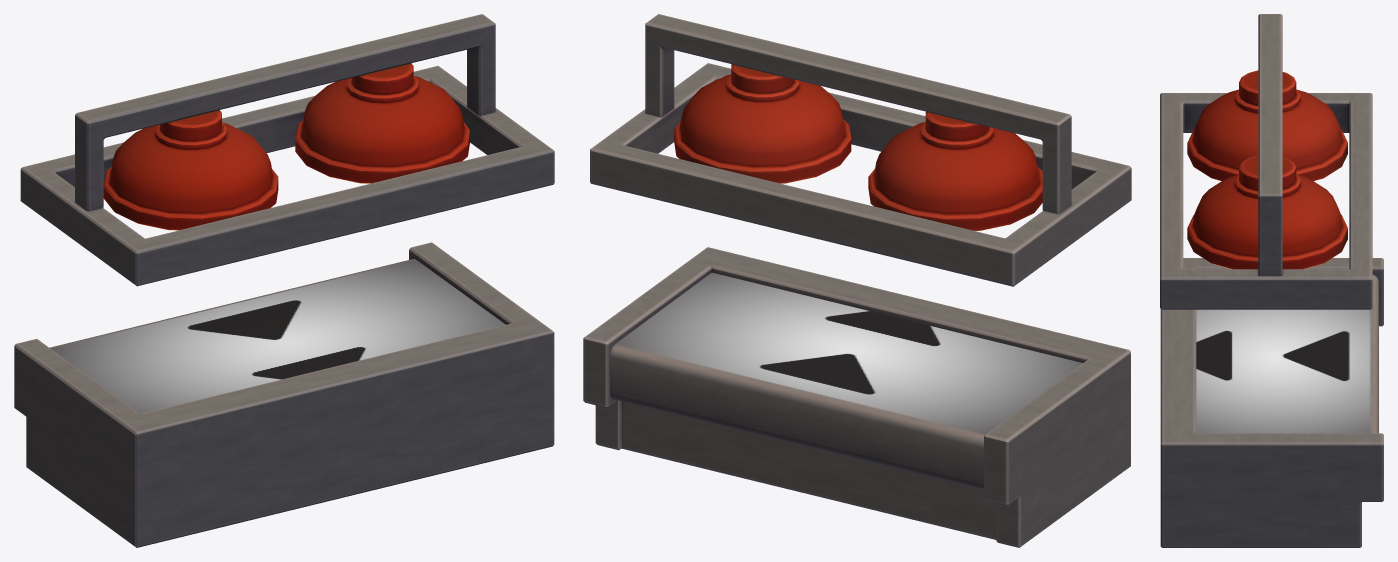
File: DeliveryCounter.fbx
The picture shows the model from 3 angles, left to right: view 1: azimuth 30°, elevation 25°; view 2: azimuth 150°, elevation 25°; view 3: azimuth 270°, elevation 25°; orthographic projection. The views are drawn at different scales.
Parts seen in each view (by area): view 1: Delivery_Counter.001; view 2: Delivery_Counter.001; view 3: Delivery_Counter.001.
Part boxes in pixels (x1,y1,x2,y2): Delivery_Counter.001: (14, 14, 554, 547); Delivery_Counter.001: (583, 14, 1131, 547); Delivery_Counter.001: (1160, 14, 1383, 547).
Bounding box in the file's own units: 400 × 352 × 203.
Materials: 1 (1 with a texture image).
